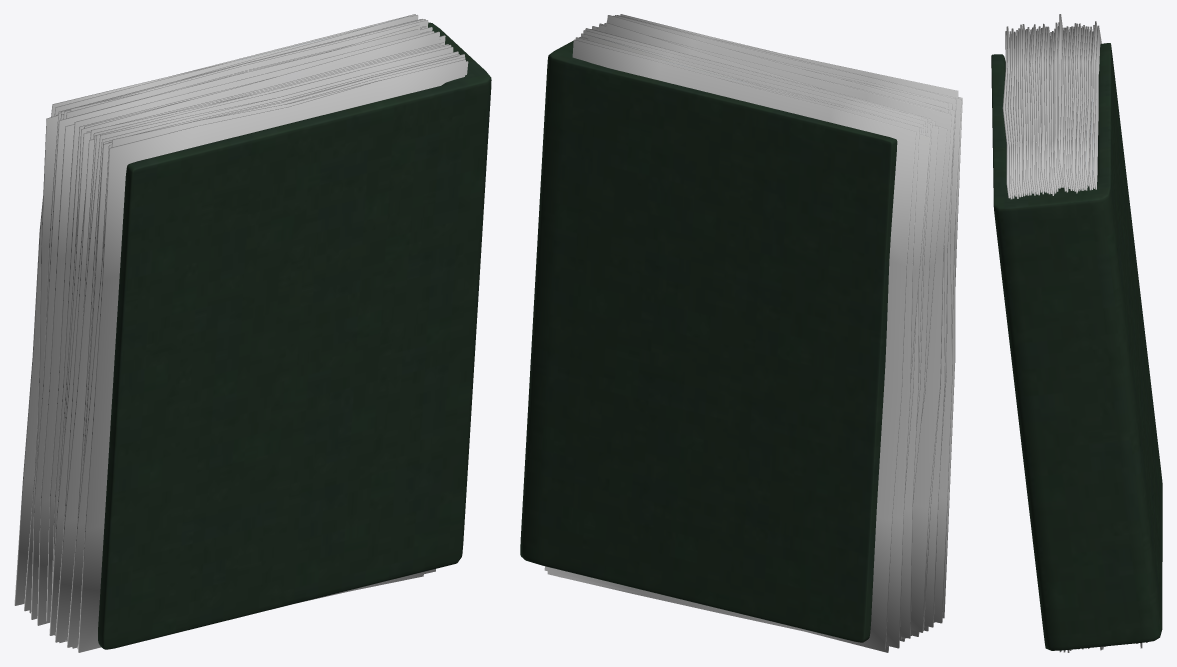
File: livro grande verde.fbx
3 renders of one model, left to right at view 1: azimuth 30°, elevation 25°; view 2: azimuth 150°, elevation 25°; view 3: azimuth 270°, elevation 25°, orthographic. The views are drawn at different scales.
Parts seen in each view (by area): view 1: livros_LOD0; view 2: livros_LOD0; view 3: livros_LOD0.
Boxes of the visible parts, x1,y1,x2,y2 form: livros_LOD0: (14, 14, 491, 652); livros_LOD0: (520, 14, 962, 652); livros_LOD0: (991, 14, 1162, 652).
Size of what is drawn, in the model's own units: 29.96 by 39.5 by 12.6.
Materials: 1 (1 with a texture image).
